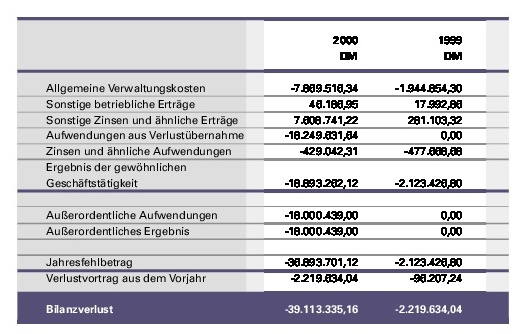table: (0, 0, 521, 334)
